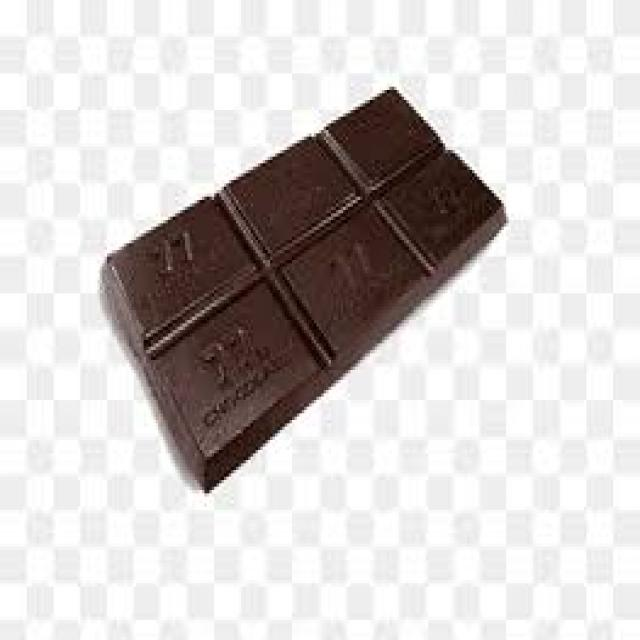Chocolate: (99, 84, 508, 495)
